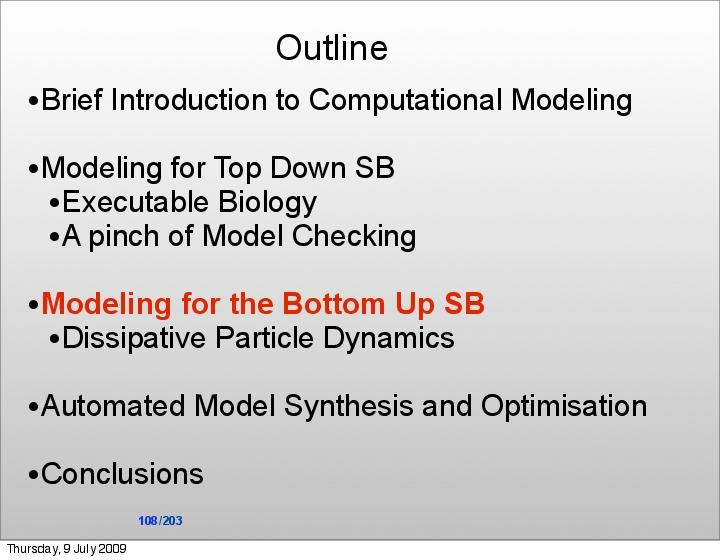paragraph: (11, 80, 699, 494)
title: (267, 21, 400, 73)
